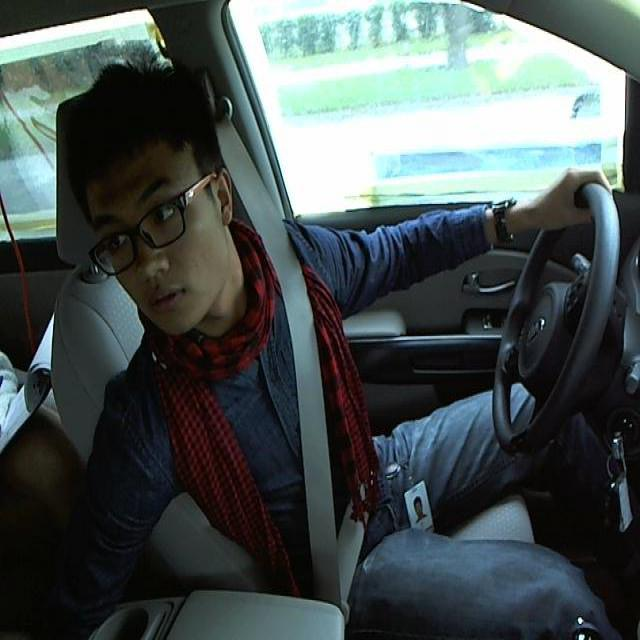seatbelt: (247, 228, 368, 596)
